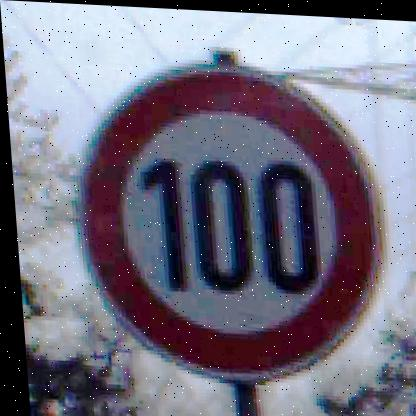Speed Limit -100-: (60, 53, 395, 387)
